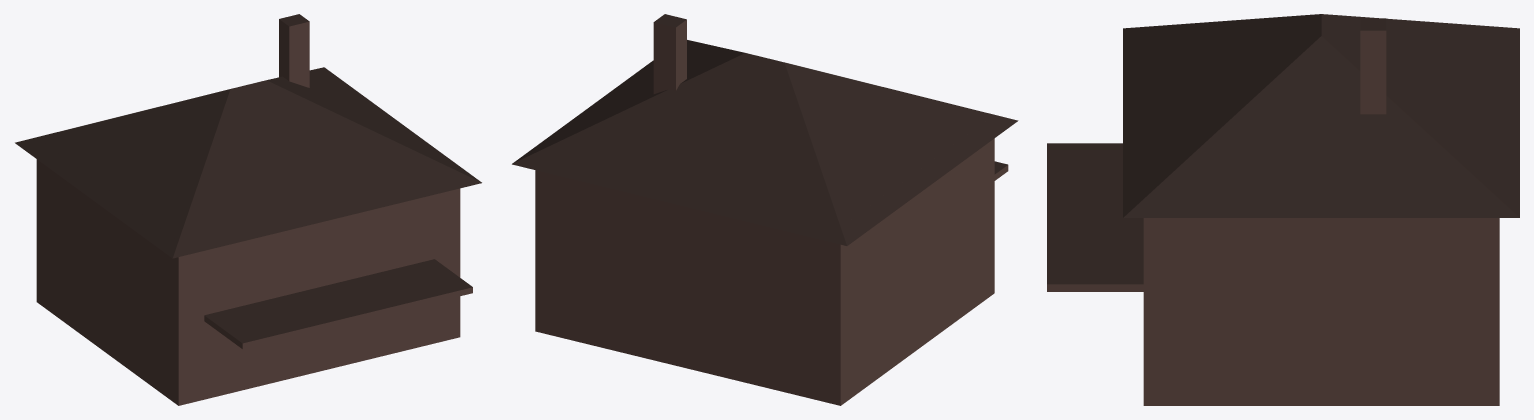
The model's file is mh-foreman-house.far-facades-v3.lod2.glb.
3 views of the same model, side by side, from view 1: azimuth 30°, elevation 25°; view 2: azimuth 150°, elevation 25°; view 3: azimuth 270°, elevation 25° (orthographic). The views are drawn at different scales.
Parts seen in each view (by area): view 1: mh-foreman-house; view 2: mh-foreman-house; view 3: mh-foreman-house.
Part boxes in pixels (x1,y1,x2,y2): mh-foreman-house: (15,14,481,405); mh-foreman-house: (512,14,1018,405); mh-foreman-house: (1047,14,1519,405).
Bounding box in the file's own units: 12.1 × 10 × 12.75.
